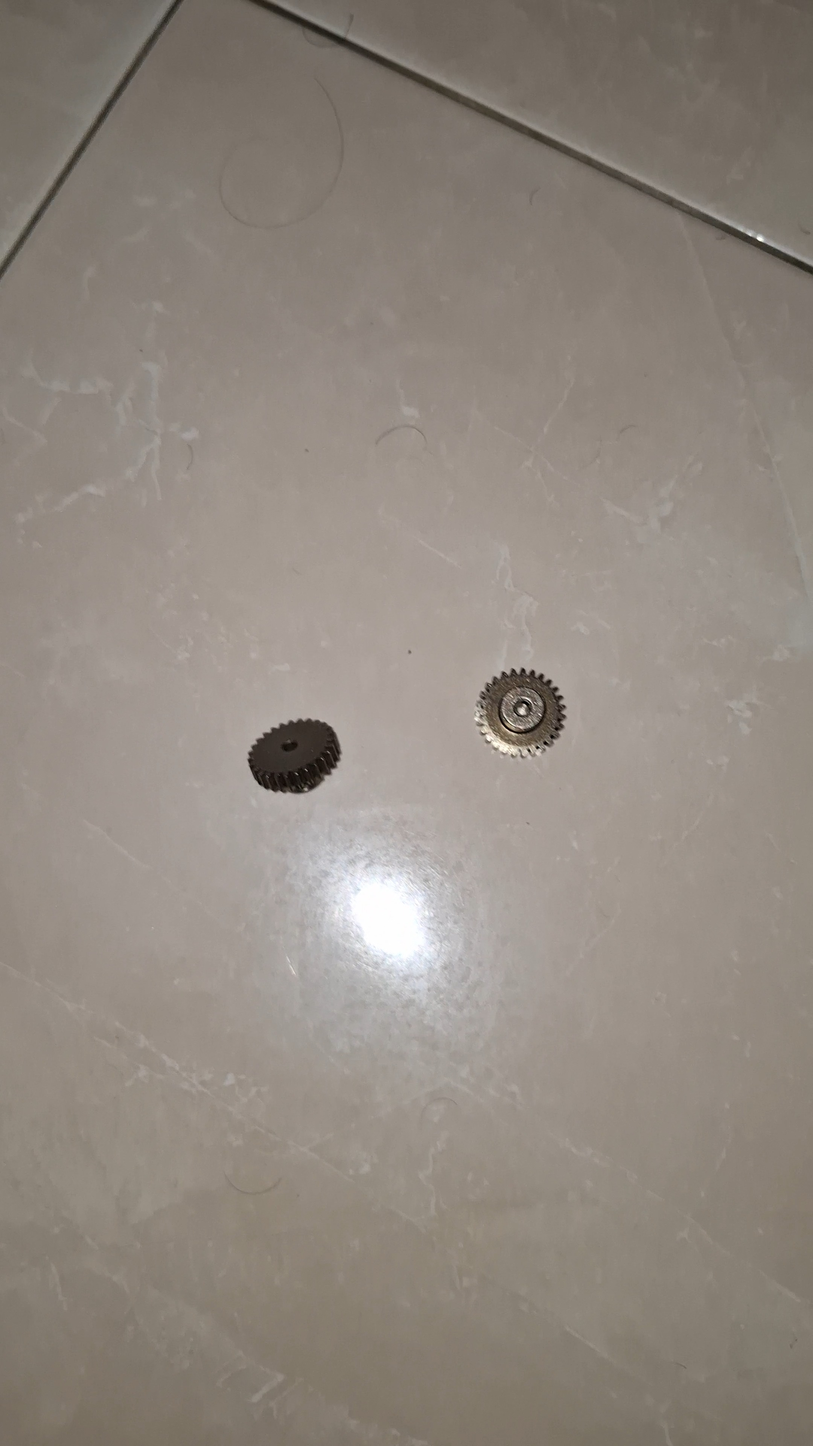spur gear: (475, 669, 565, 756), (248, 720, 340, 792)
